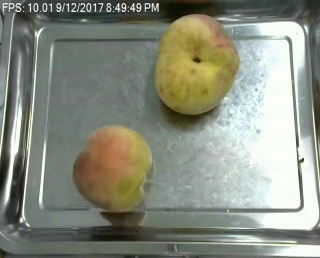Peach: (155, 13, 240, 114), (72, 125, 153, 211)
